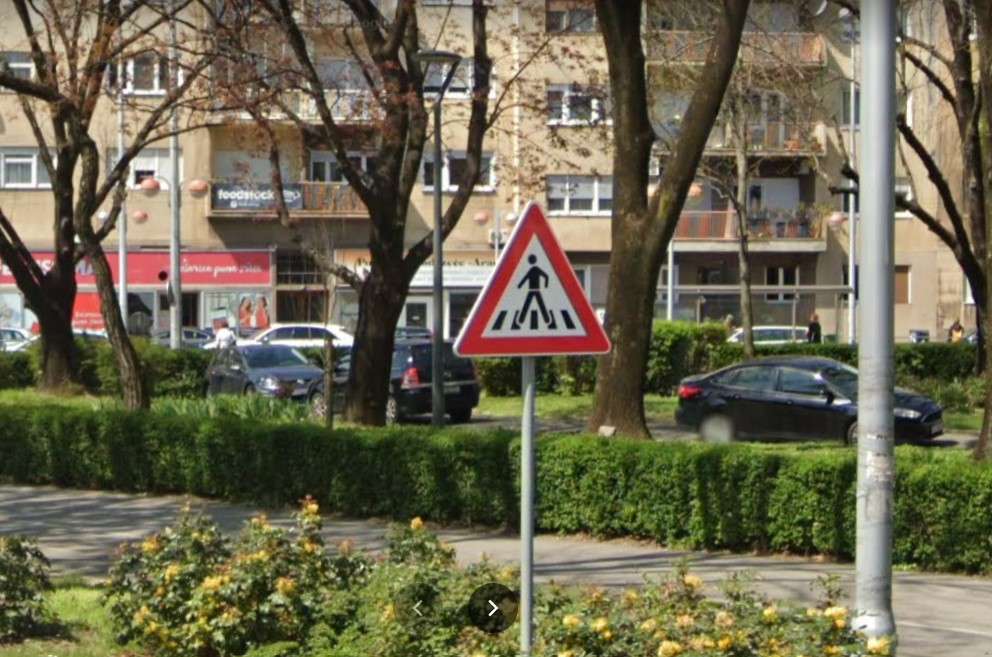Približavanje pješačkom prijelazu: (452, 202, 613, 355)
